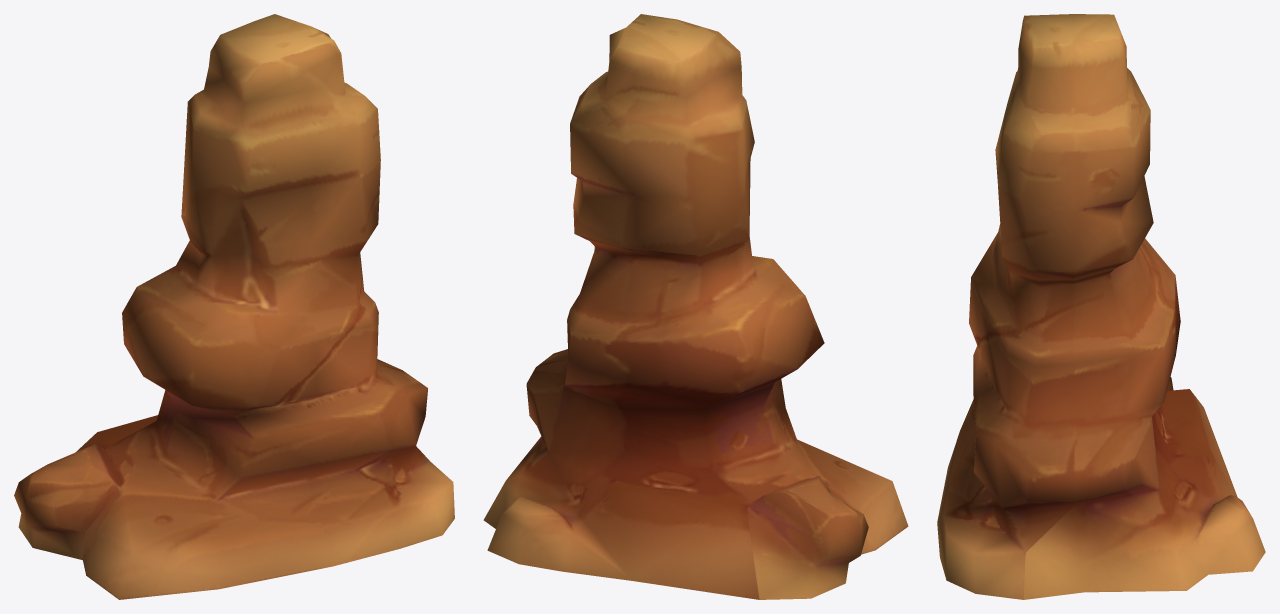
Rendered from huangyexingqiu_shitou09.FBX.
3 renders of one model, left to right at view 1: azimuth 30°, elevation 25°; view 2: azimuth 150°, elevation 25°; view 3: azimuth 270°, elevation 25°, orthographic. The views are drawn at different scales.
Visible parts, largest first — view 1: huangyexingqiu_shitou09; view 2: huangyexingqiu_shitou09; view 3: huangyexingqiu_shitou09.
Part boxes in pixels (x1,y1,x2,y2): huangyexingqiu_shitou09: (14,14,454,599); huangyexingqiu_shitou09: (483,14,908,599); huangyexingqiu_shitou09: (937,14,1265,599).
Size of the model in its own units: 5279 by 6567 by 3915.
